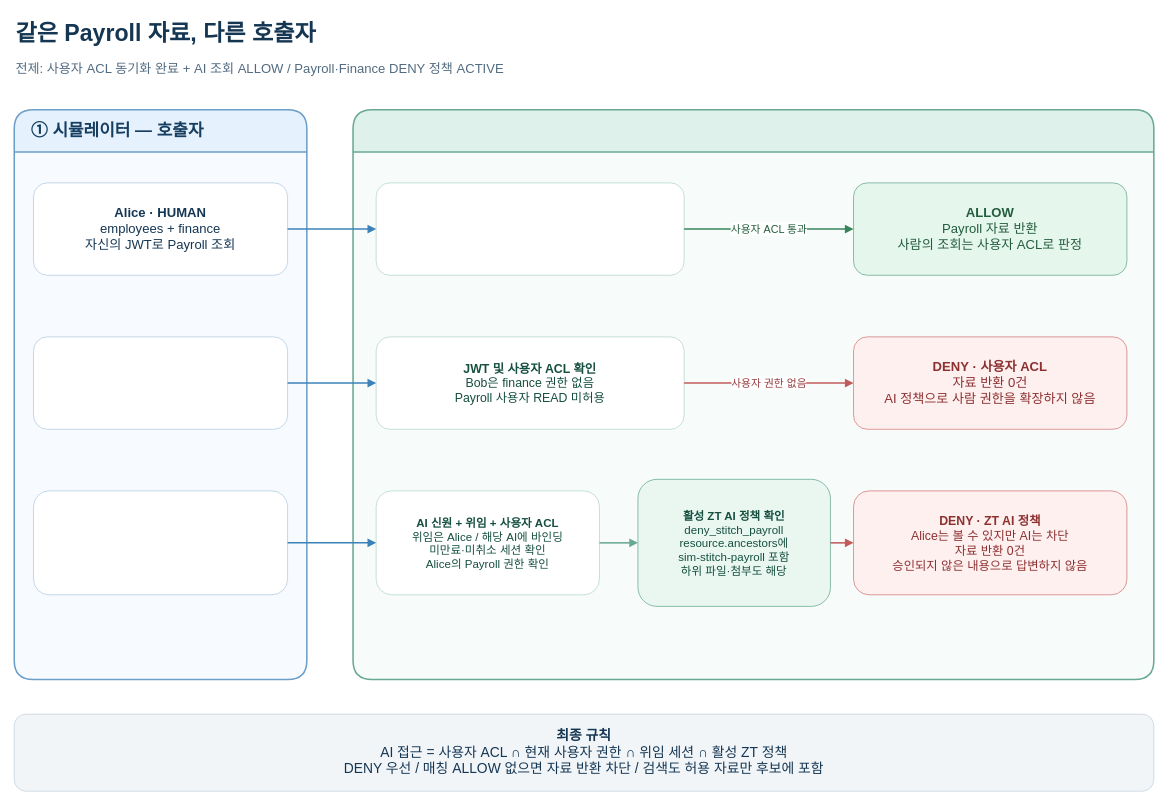
Some shapes in this 1167 by 805 pixel diagram are drawn without their labels. The box of each missing label's shape, as (x1, y1, x2, y2) in pixels:
Bob · HUMAN employees 자신의 JWT로 Payroll 조회: (33, 336, 288, 429)
JWT 및 사용자 ACL 확인 Alice의 현재 finance 권한 Payroll 사용자 READ 허용: (375, 182, 684, 275)
Stitchy · AI_AGENT 자신의 AI credential Alice가 발급한 위임 세션 MCP로 Payroll 조회: (33, 490, 288, 595)
② ZT — 인증·사용자 ACL·중앙 AI 정책: (352, 109, 1154, 680)
